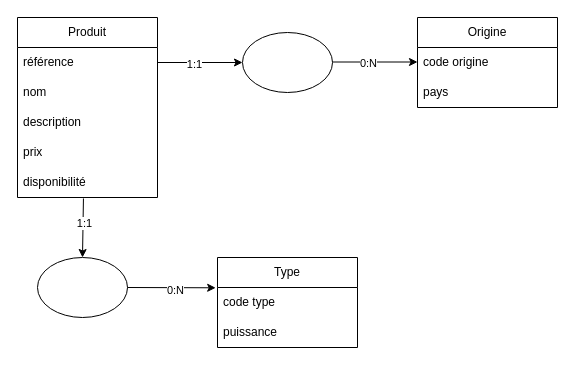
The diagram is 575 pixels wide and 365 high, and some of its shapes have lost their labels. Here are the shapes that lost their labels. From the top down, the centre of each, then its label:
At (x=287, y=62): "venir".
At (x=82, y=287): "appartenir".
